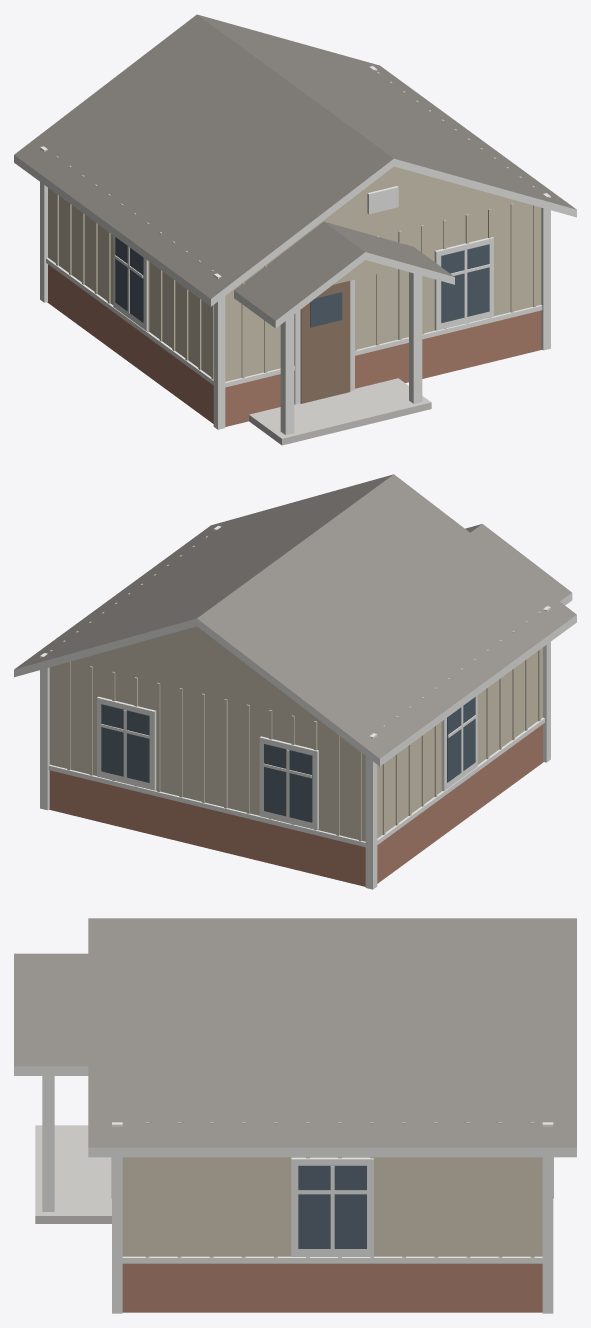
Rendered from conversion-craftsman.glb.
3 views of the same model, one above another, from view 1: azimuth 30°, elevation 25°; view 2: azimuth 150°, elevation 25°; view 3: azimuth 270°, elevation 25° (orthographic). The views are drawn at different scales.
Parts seen in each view (by area): view 1: The Conversion (craftsman); view 2: The Conversion (craftsman); view 3: The Conversion (craftsman).
Part boxes in pixels (<box>): The Conversion (craftsman): <box>14,14,576,445</box>; The Conversion (craftsman): <box>14,474,576,889</box>; The Conversion (craftsman): <box>14,918,576,1313</box>.
Bounding box in the file's own units: 6.86 × 4.27 × 7.37.
